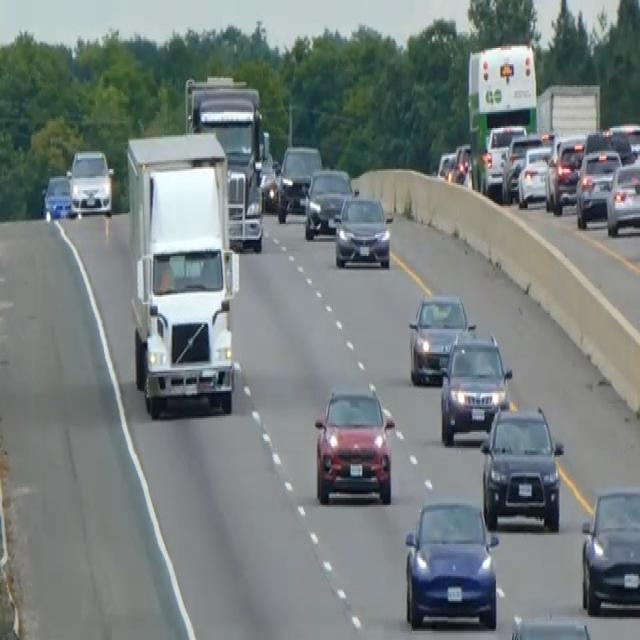bus: (465, 41, 539, 194)
car: (403, 496, 499, 629), (479, 402, 564, 532), (313, 382, 395, 505), (439, 330, 512, 444), (579, 484, 639, 615), (407, 290, 474, 384), (334, 190, 392, 268), (303, 165, 354, 240), (575, 146, 621, 228), (276, 142, 322, 222), (544, 132, 586, 214), (481, 122, 526, 194), (67, 147, 113, 217), (501, 133, 542, 201), (605, 156, 639, 236), (504, 612, 598, 638), (516, 142, 552, 208), (41, 172, 72, 220), (258, 150, 279, 212), (608, 121, 639, 160), (449, 142, 471, 185), (436, 150, 456, 180)
lorry: (125, 128, 240, 420)
